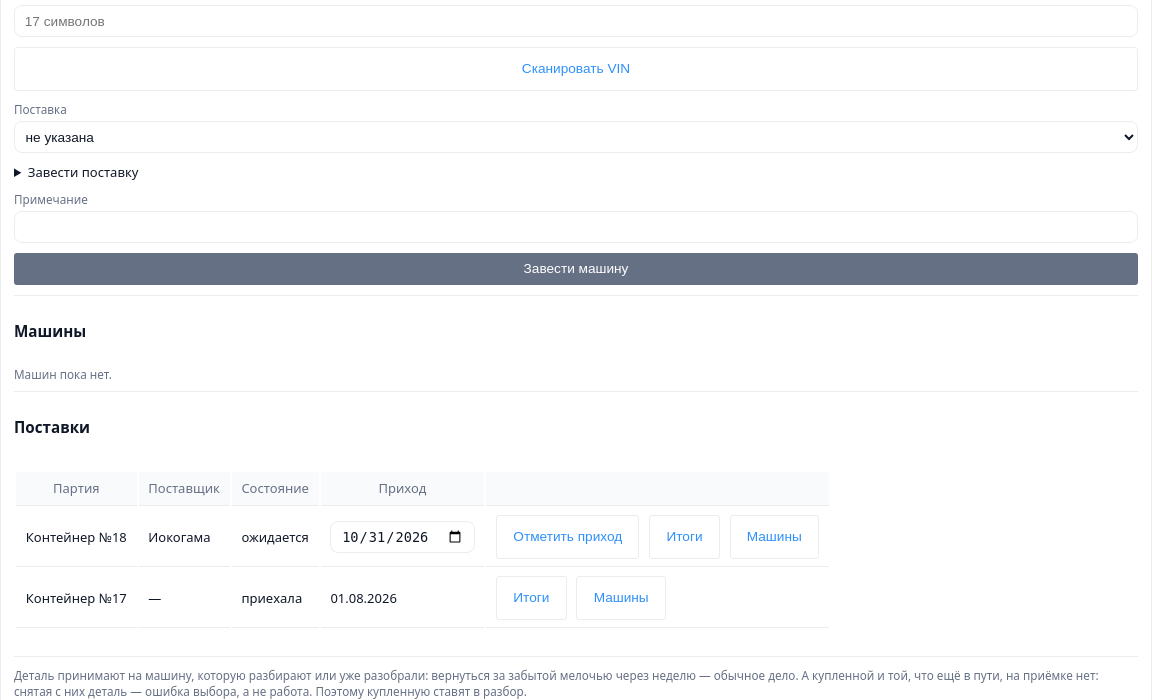
Test case: поставка: приход и состав › не смогли узнать состав — говорит причину, а не «машин нет»
This screenshot has width=1152, height=700.
(page scrolled)
What coordinates should you click on to do the following:
click the button "Машины" in the row of "Контейнер №18"
I would click on:
 (774, 537)
Its box is [730,515,819,559].
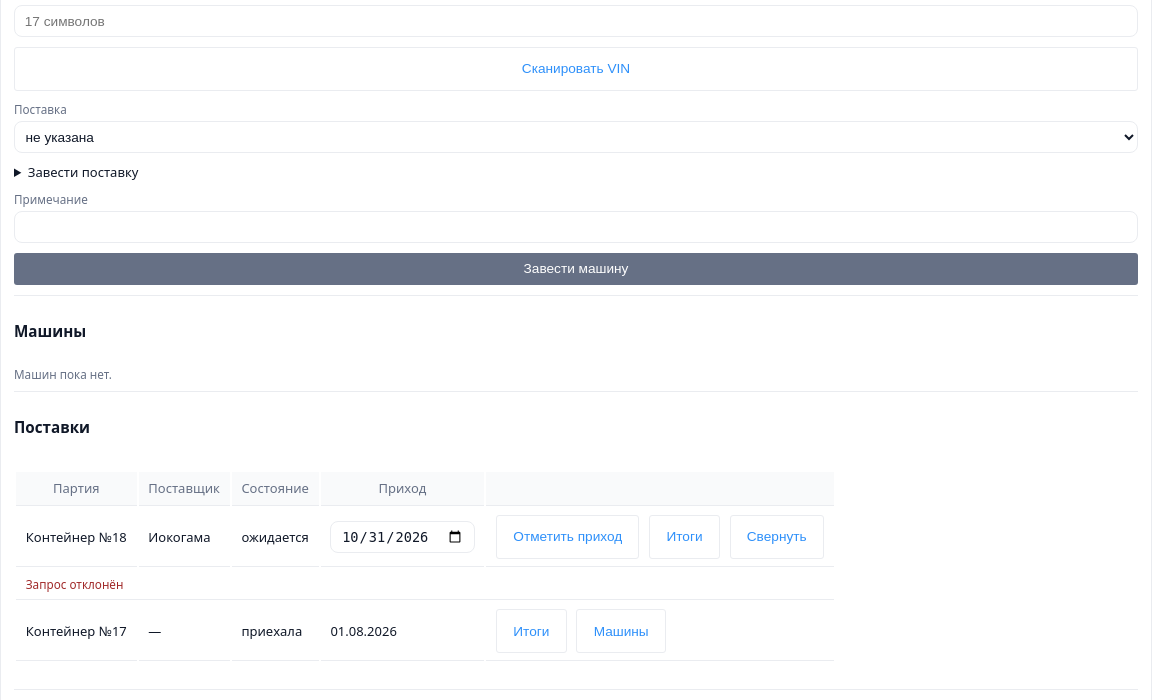
Expected: the element with class "note--error" does not show ""
Result: the text "Запрос отклонён" is shown at [26,576,123,592]
